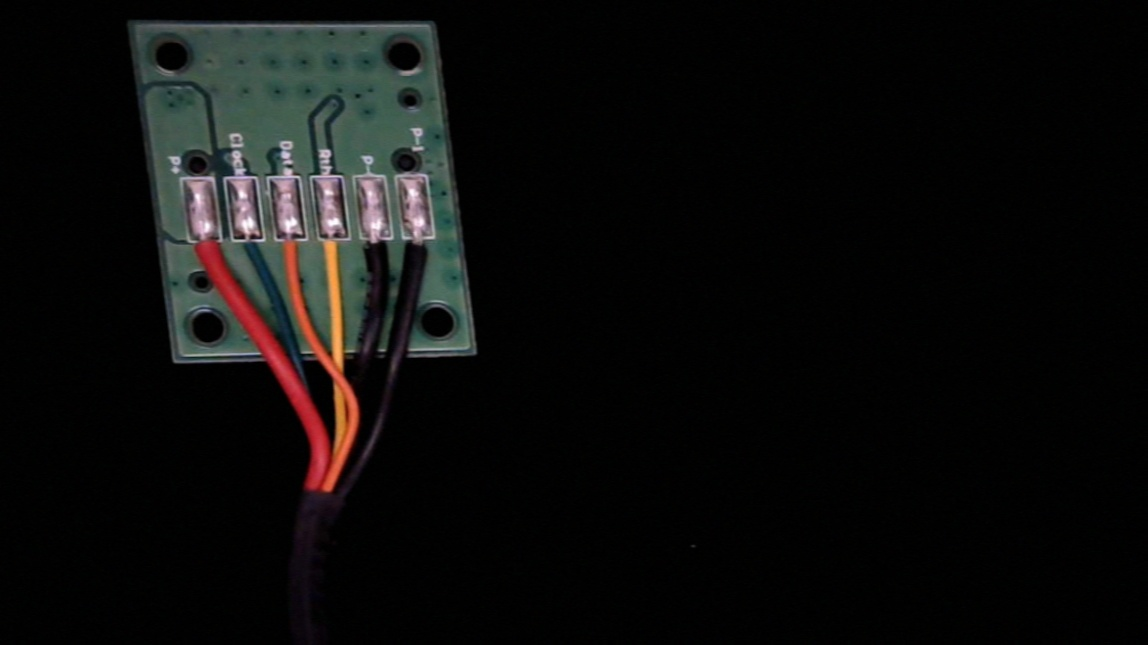Black: (358, 226, 396, 290)
Black1: (400, 227, 442, 294)
Green: (231, 226, 273, 285)
Orange: (272, 227, 313, 286)
Red: (187, 230, 227, 293)
Yellow: (315, 224, 358, 289)
